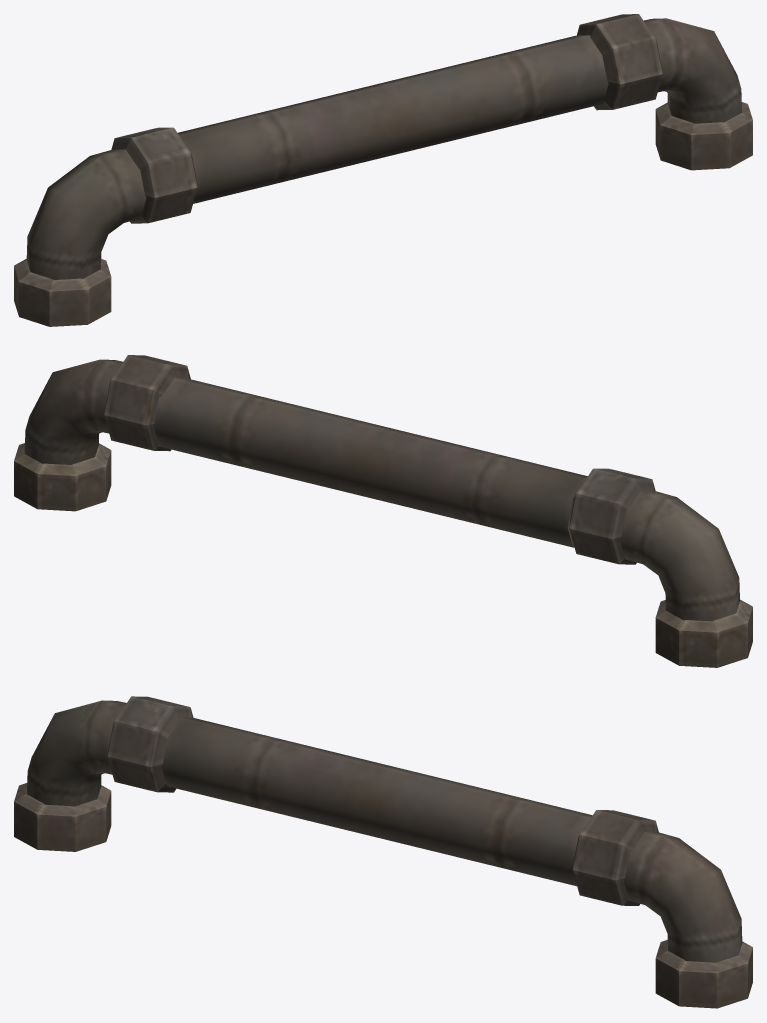
File: pipe_1.FBX
3 views of the same model, one above another, from view 1: azimuth 30°, elevation 25°; view 2: azimuth 150°, elevation 25°; view 3: azimuth 330°, elevation 25° (orthographic).
Parts seen in each view (by area): view 1: pipe_1; view 2: pipe_1; view 3: pipe_1.
Part boxes in pixels (x1,y1,x2,y2): pipe_1: [14, 14, 752, 326]; pipe_1: [14, 355, 752, 667]; pipe_1: [14, 696, 752, 1008].
Bounding box in the file's own units: 116 × 23.13 × 13.92.
